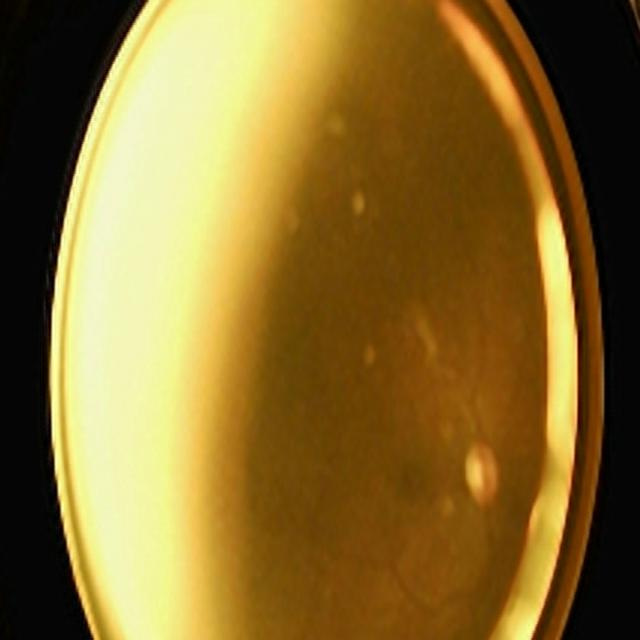optic-nerve: (444, 425, 520, 542)
